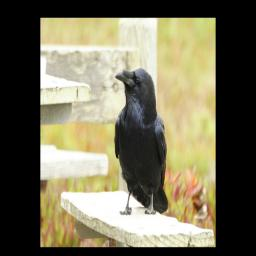Crow: (113, 67, 169, 216)
